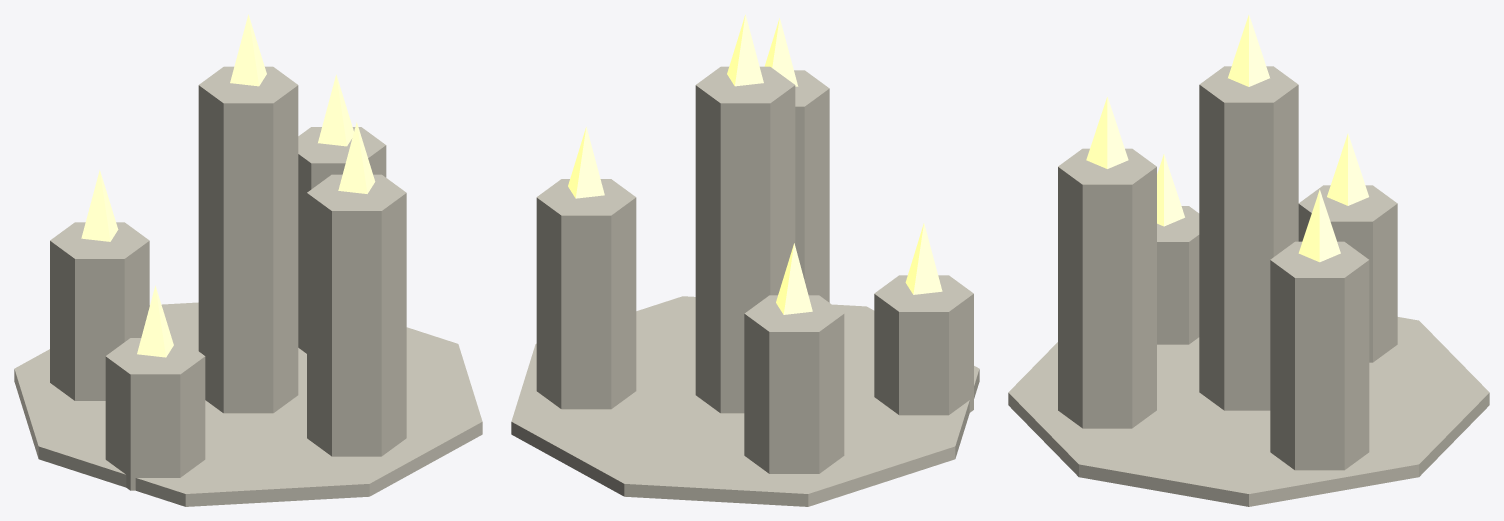
Rendered from SM_Candles.glb.
3 views of the same model, side by side, from view 1: azimuth 30°, elevation 25°; view 2: azimuth 150°, elevation 25°; view 3: azimuth 270°, elevation 25° (orthographic).
Parts seen in each view (by area): view 1: SM_Candles; view 2: SM_Candles; view 3: SM_Candles.
Boxes of the visible parts, x1=… form: SM_Candles: x1=14, y1=14, x2=482, y2=506; SM_Candles: x1=511, y1=14, x2=979, y2=506; SM_Candles: x1=1008, y1=15, x2=1489, y2=506.
Bounding box in the file's own units: 0.34 × 0.305 × 0.34.
